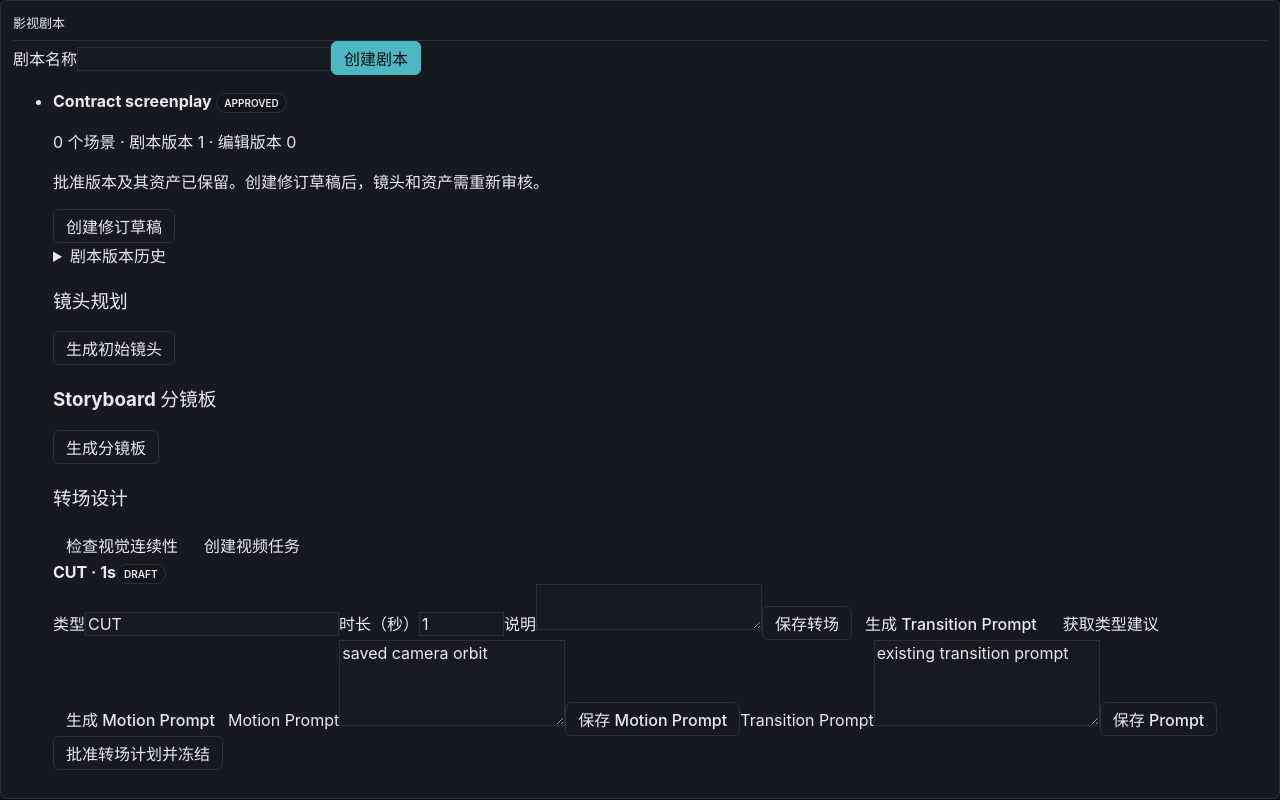
Test: ScreenplayPanel Motion Prompt contract › generates without saving and sends exact generation identifiers
Click the button "生成 Motion Prompt" at (140, 719), box x1=53 y1=702 x2=228 y2=736
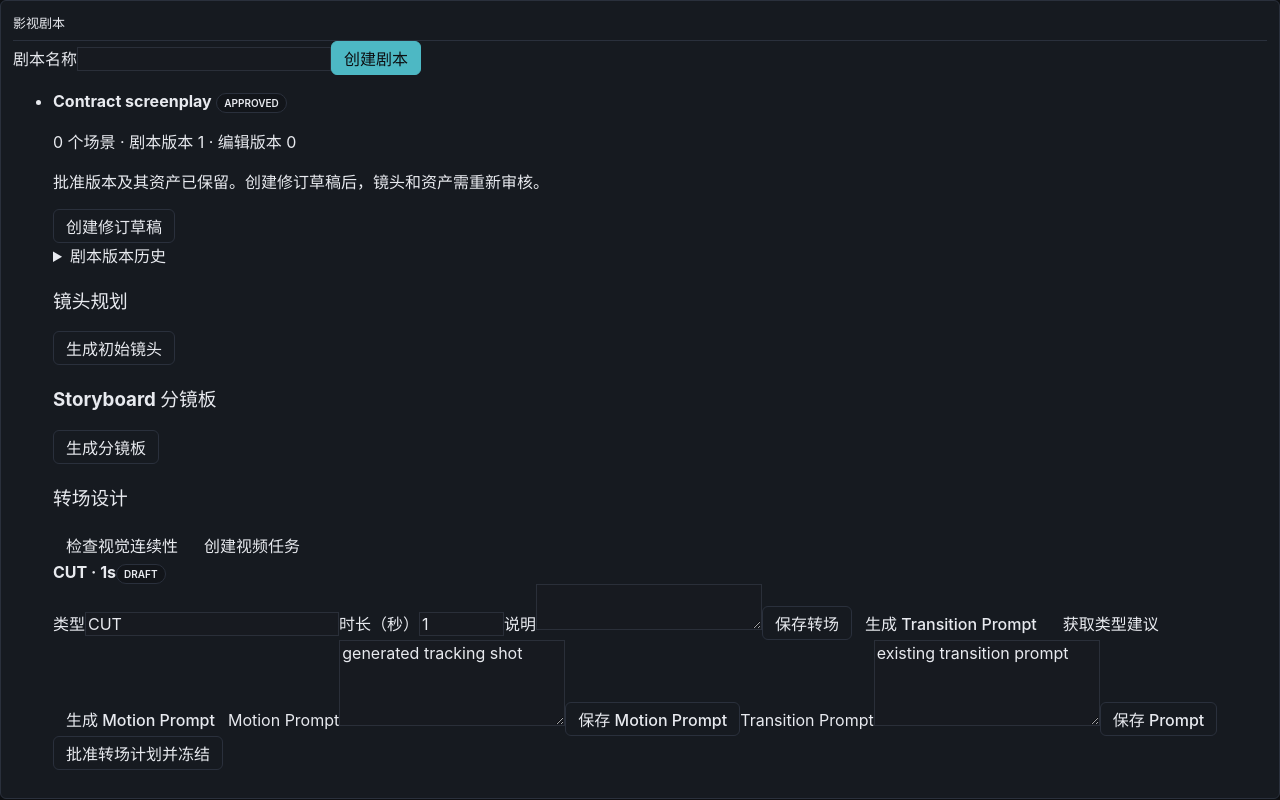
Expected: the text box showing "generated tracking shot" is shown, x1=339 y1=640 x2=565 y2=726
